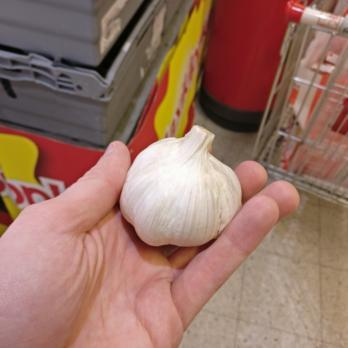Garlic: (117, 121, 246, 248)
